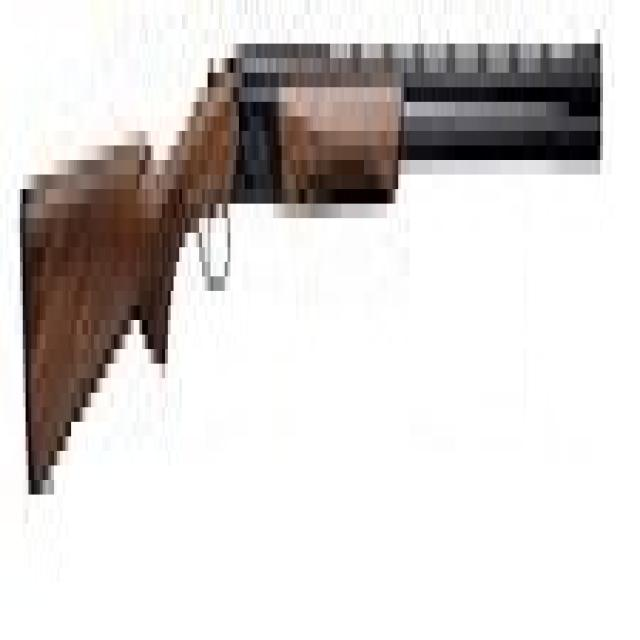rifle: (18, 28, 610, 526)
